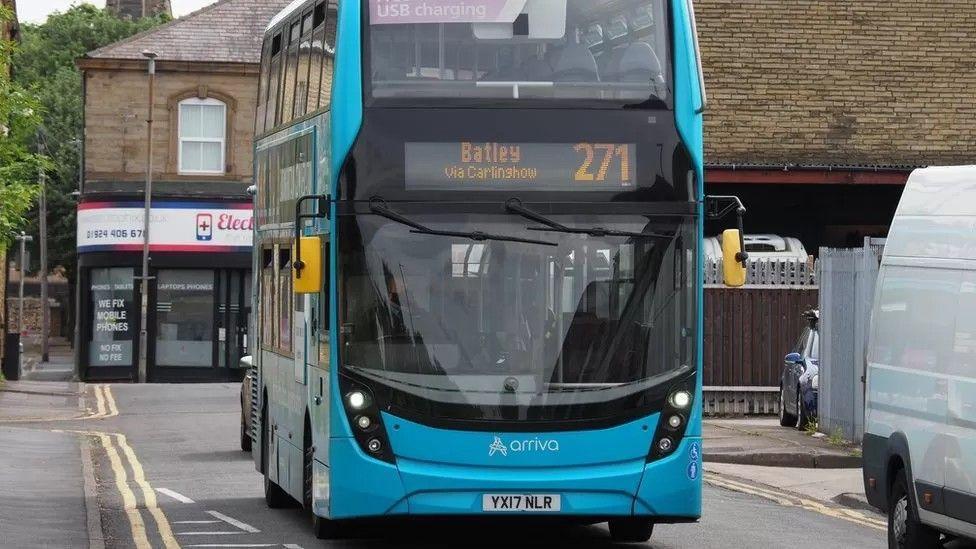bus: (233, 1, 752, 547)
